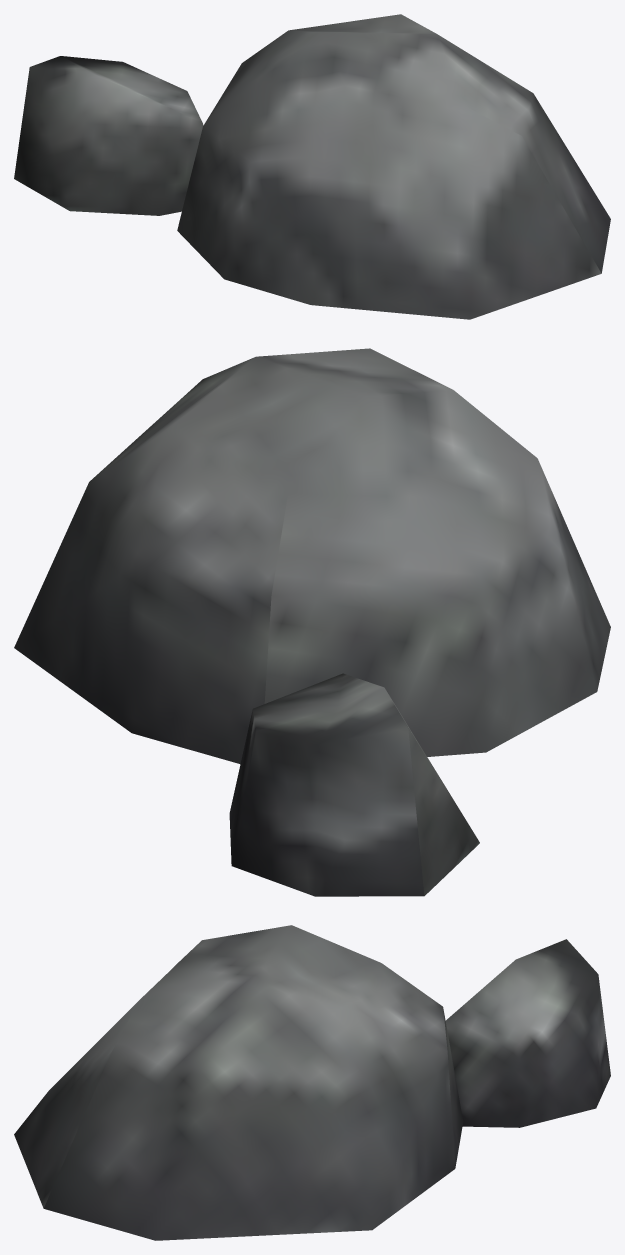
File: Area_08_22.fbx
The picture shows the model from 3 angles, top to bottom: view 1: azimuth 30°, elevation 25°; view 2: azimuth 150°, elevation 25°; view 3: azimuth 270°, elevation 25°; orthographic projection. The views are drawn at different scales.
Parts seen in each view (by area): view 1: Area_08_22; view 2: Area_08_22; view 3: Area_08_22.
Boxes of the visible parts, left/top/right/bottom form: Area_08_22: left=14, top=14, right=610, bottom=319; Area_08_22: left=14, top=348, right=610, bottom=896; Area_08_22: left=14, top=925, right=610, bottom=1240.
Size of the model in its own units: 183 by 93.04 by 229.
